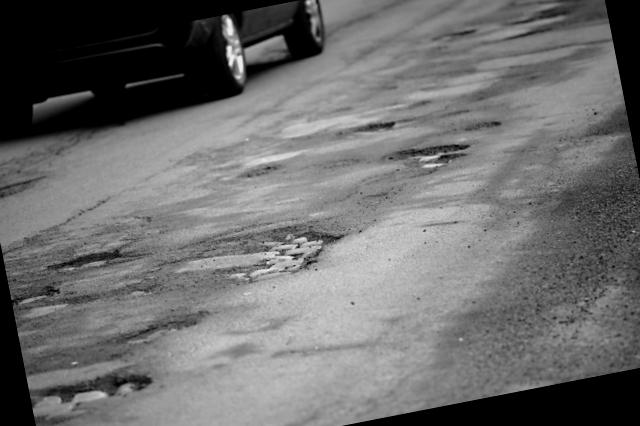Pothole: (172, 195, 368, 323), (24, 338, 167, 426), (387, 113, 492, 203), (489, 0, 610, 53), (322, 114, 408, 156), (45, 241, 123, 285), (8, 270, 86, 314), (218, 156, 294, 193), (424, 8, 486, 53), (464, 108, 512, 132)
